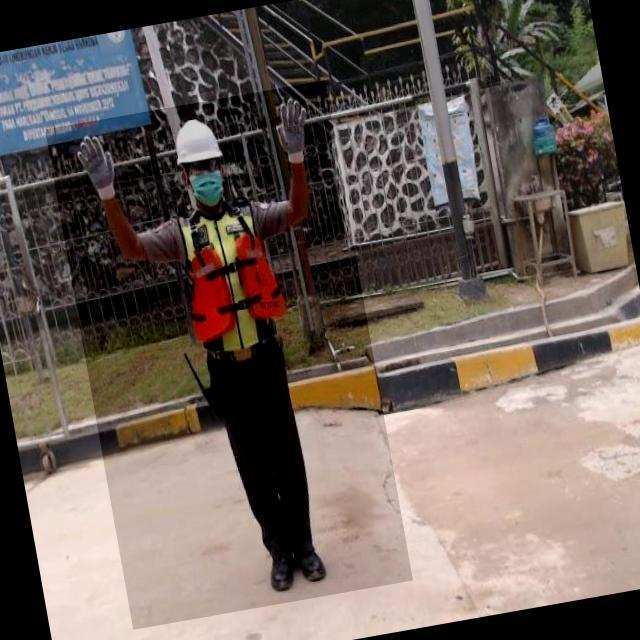Gloves: (70, 127, 121, 206), (266, 93, 316, 169)
Helmet: (169, 115, 224, 172)
Person: (64, 79, 355, 612)
Safety Boot: (265, 544, 300, 598), (296, 538, 331, 591)
Safety Vest: (175, 203, 293, 357)
